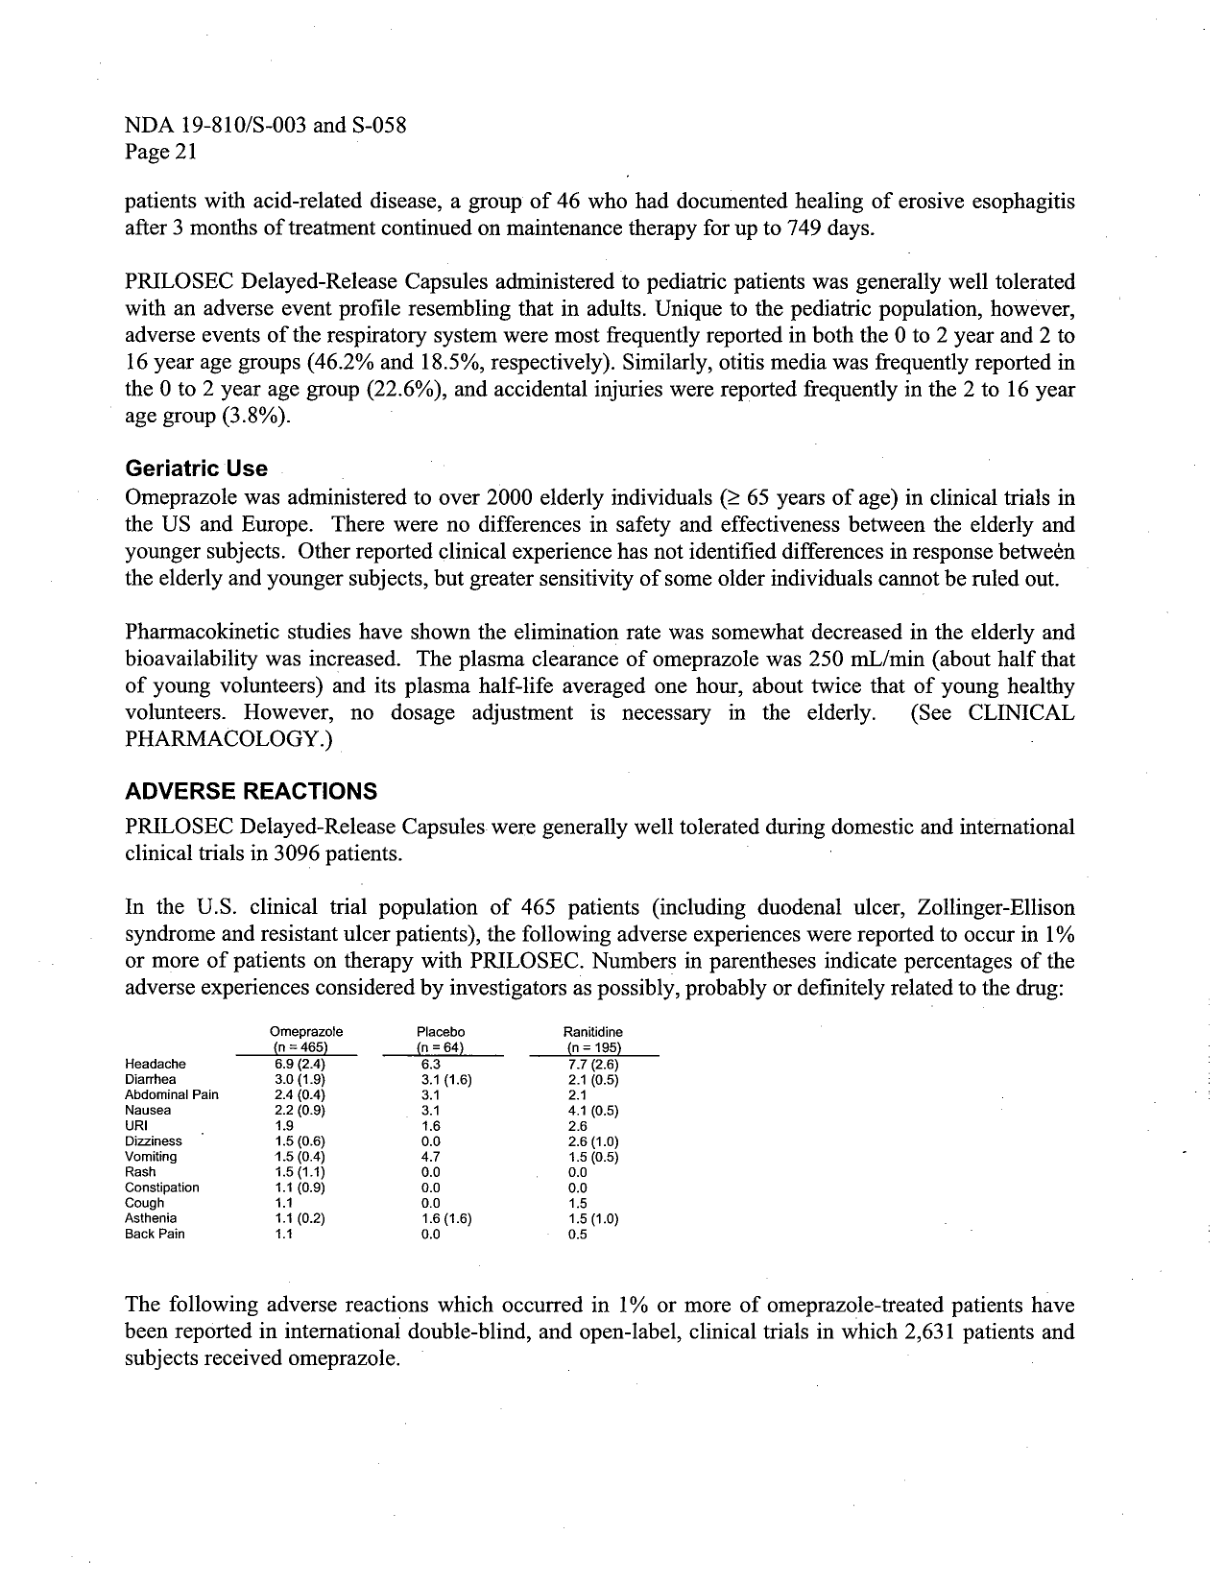nolines: (123, 1023, 661, 1242)
